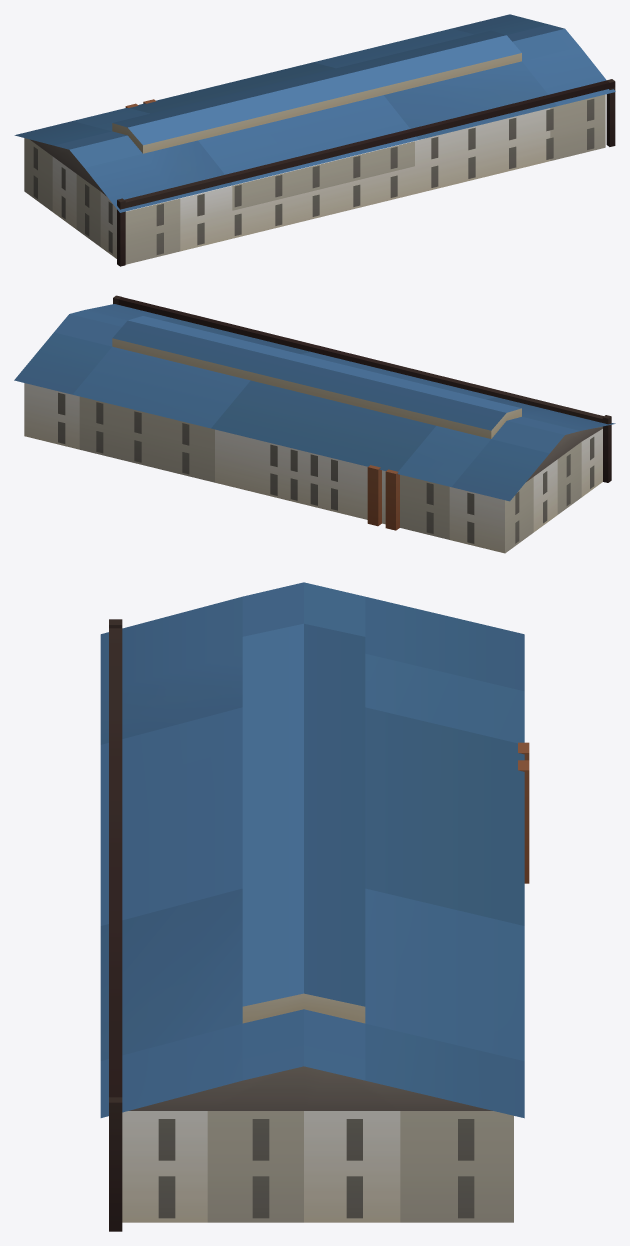
The model's file is SM_Factory_Building_06.fbx.
3 renders of one model, top to bottom at view 1: azimuth 30°, elevation 25°; view 2: azimuth 150°, elevation 25°; view 3: azimuth 270°, elevation 25°, orthographic. The views are drawn at different scales.
Parts seen in each view (by area): view 1: SM_Factory_Building_06; view 2: SM_Factory_Building_06; view 3: SM_Factory_Building_06.
Part boxes in pixels (x1,y1,x2,y2): SM_Factory_Building_06: (14,14,615,266); SM_Factory_Building_06: (14,295,615,553); SM_Factory_Building_06: (100,582,529,1231).
Size of the model in its own units: 14.92 by 2.57 by 5.57.
